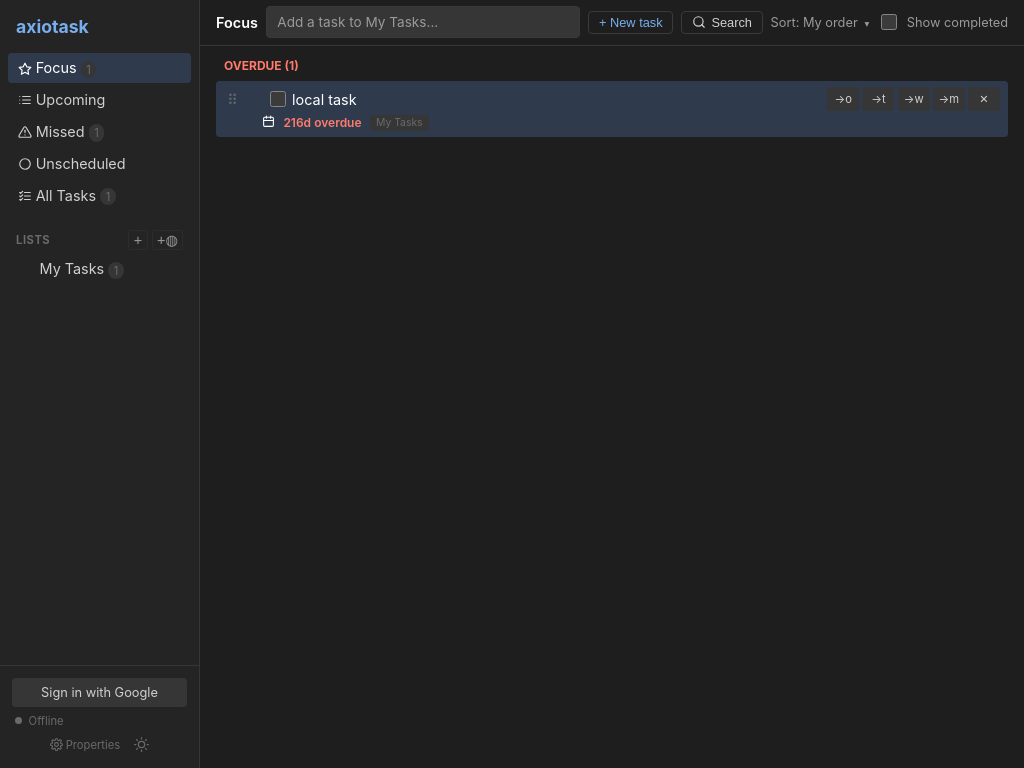
Auth recovery UX › #45: a successful login flips the UI to signed-in without a restart
The width and height of the screenshot is (1024, 768).
Click the button "Sign in with Google": (100, 693) [12,678,187,707]
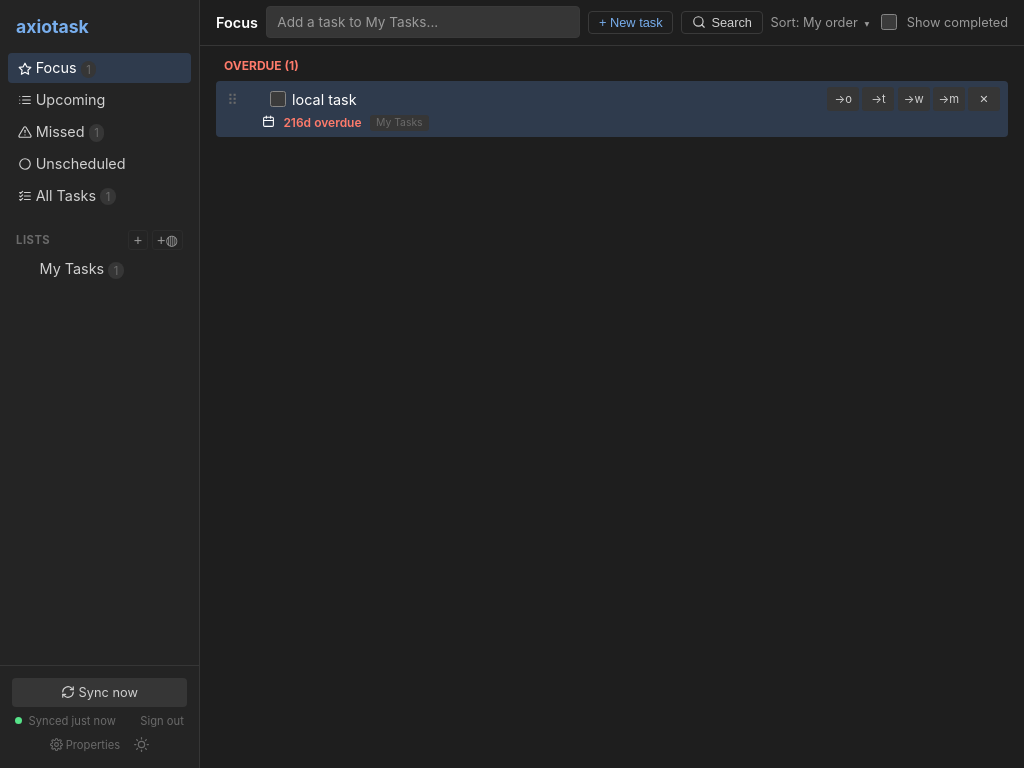
Check: the button "Sync now" is shown, box [12,678,187,707]
Check: the button "Sign in with Google" is gone
